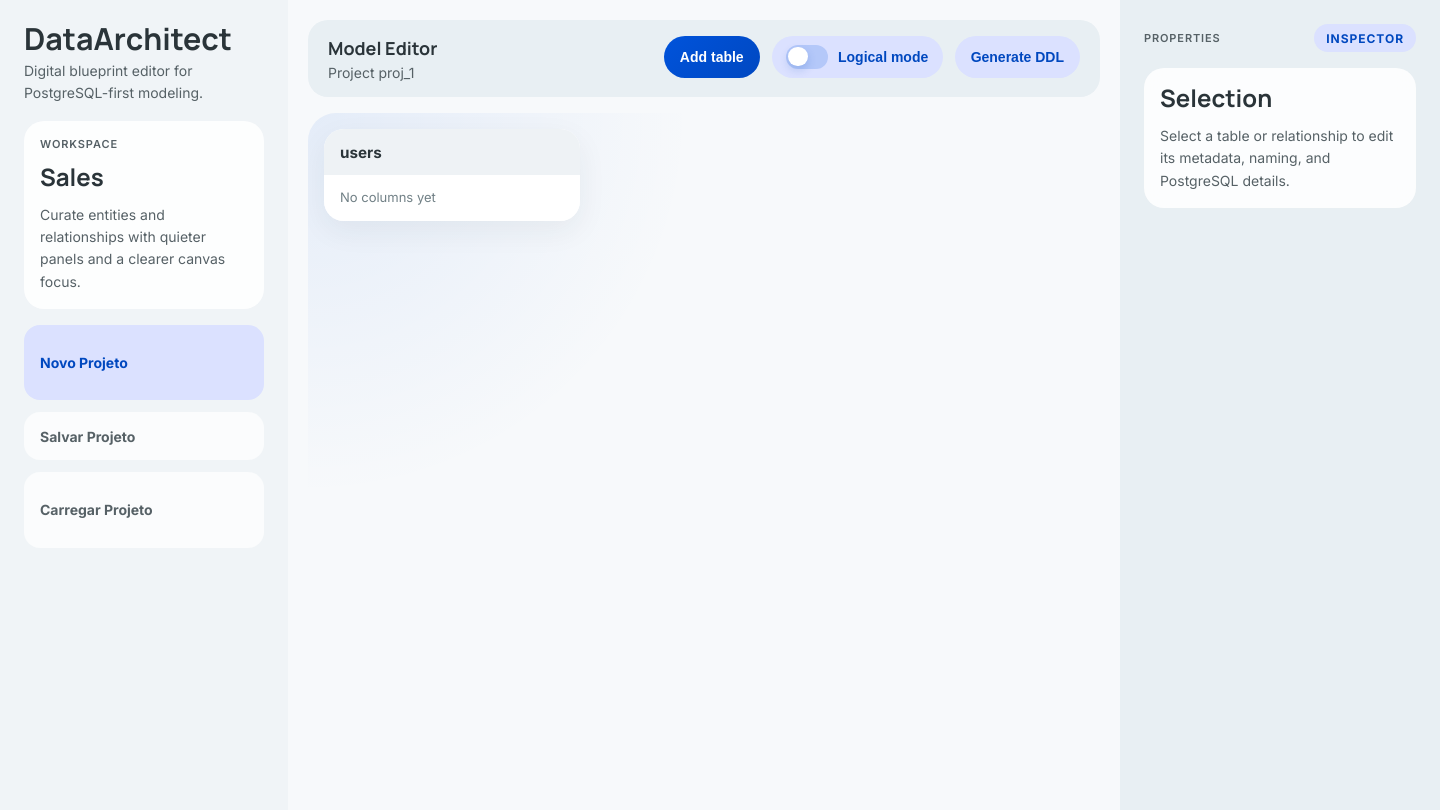
ModelerWorkspace › shows the table details action after selecting a schema card in test mode
What coordinates should you click on to do the following:
click the text "users"
I would click on:
 (452, 152)
Its box is [324,129,580,175].
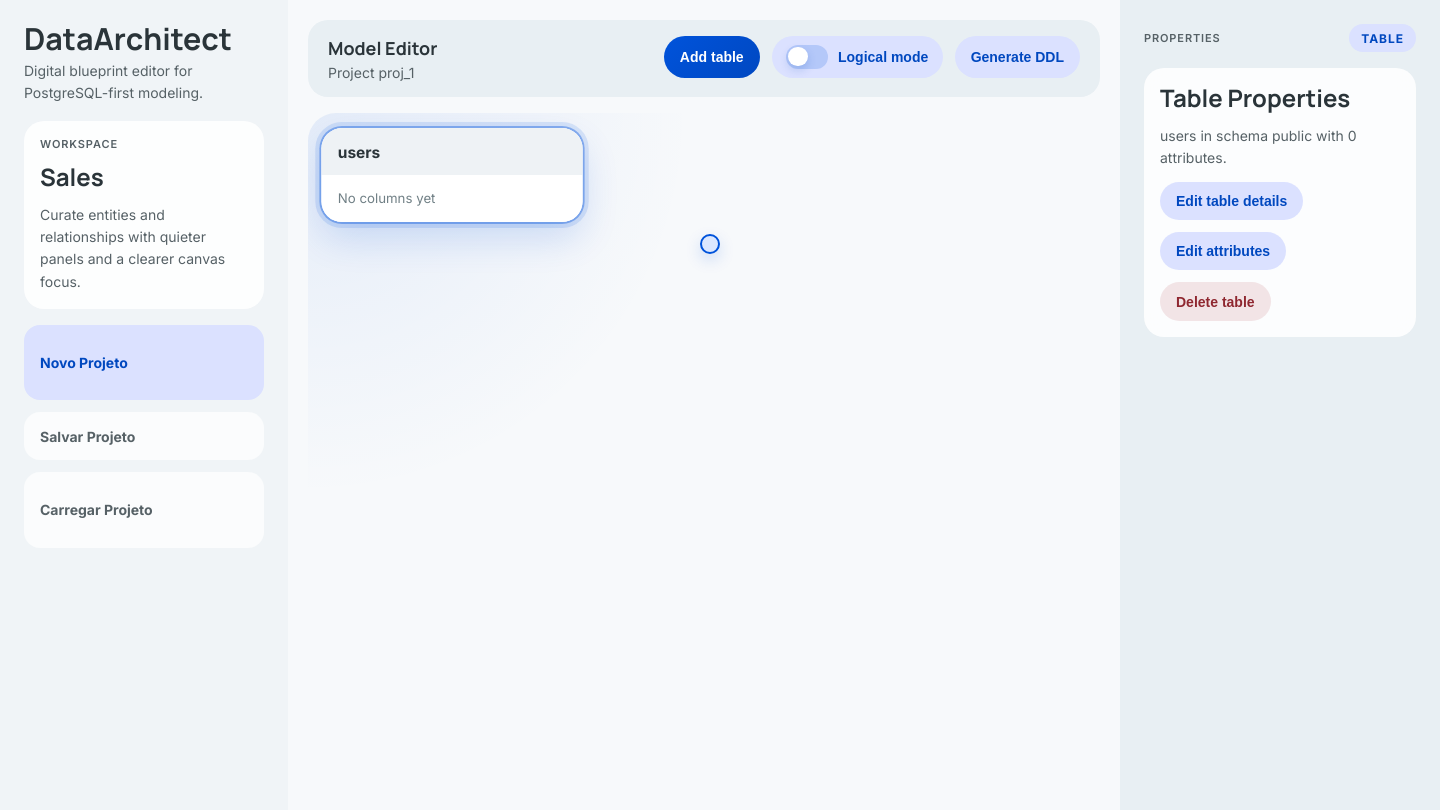
What coordinates should you click on to do the following:
click the button "Edit table details"
I would click on:
 (1232, 201)
Its box is [1160,182,1303,220].
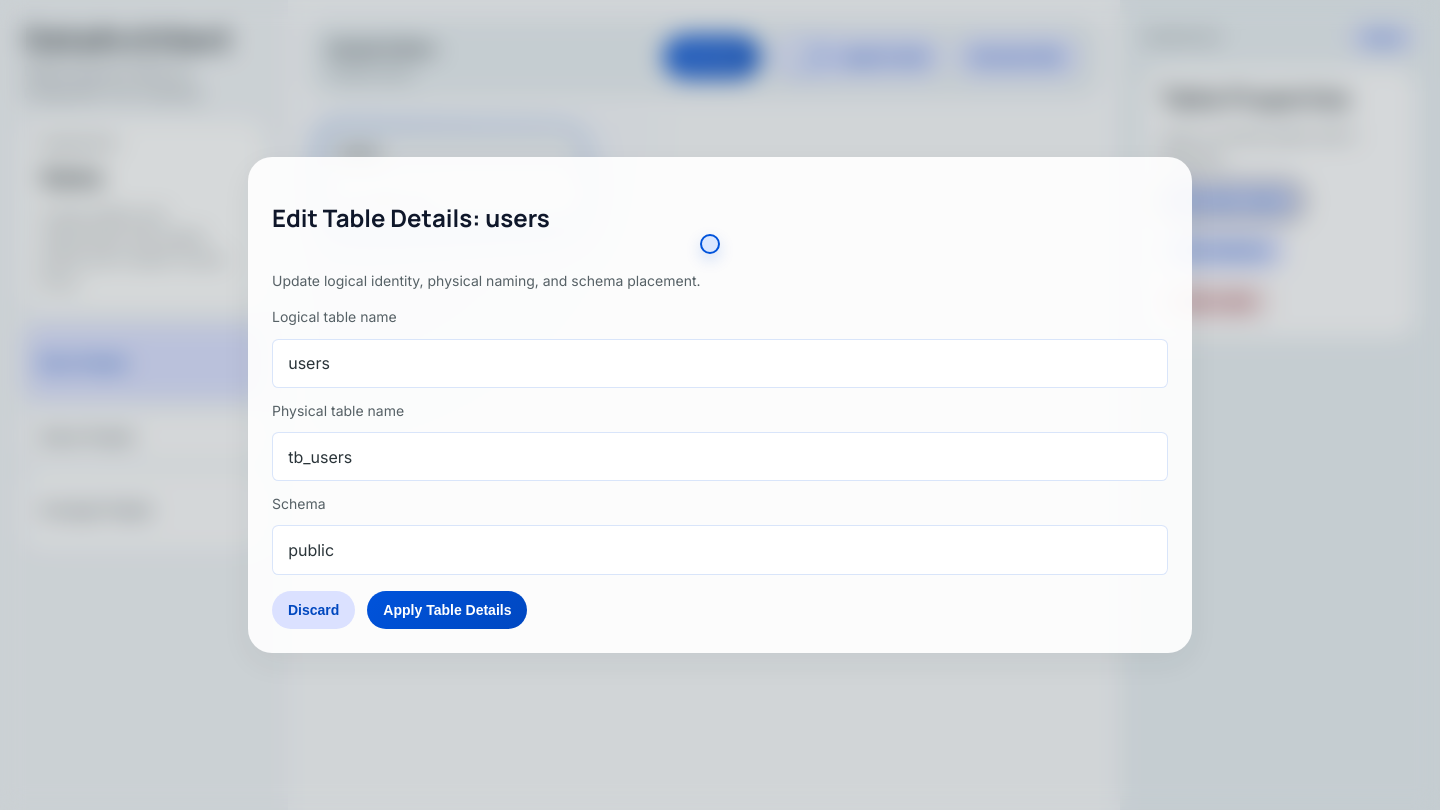
Expected: the heading "Edit Table Details: users" is shown, [272,201,550,234]
